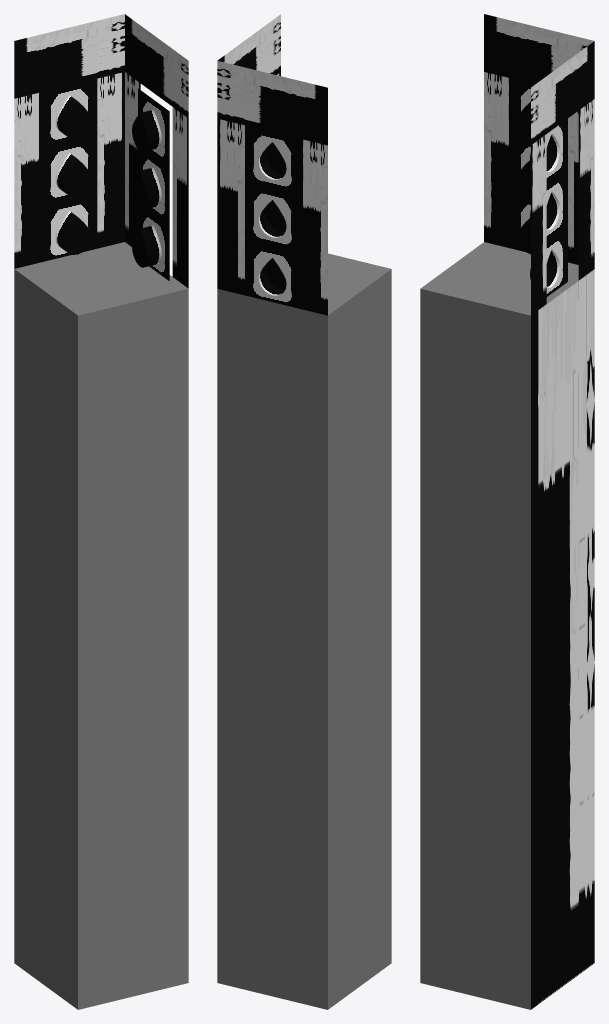
The model's file is Phase 3 Tower - Bottom Half.fbx.
The picture shows the model from 3 angles, left to right: view 1: azimuth 30°, elevation 25°; view 2: azimuth 150°, elevation 25°; view 3: azimuth 330°, elevation 25°; orthographic projection.
Parts seen in each view (by area): view 1: Whitebox_cube, Windows_Inset_Tear (6), Windows_Inset_Tear (10), Windows_Inset_Tear (11), Windows_Inset_Tear (7), Windows_Inset_Tear (1), Windows_Inset_Tear, Windows_Inset_Tear (2), Windows_Inset_Tear (9), Windows_Inset_Tear (3), Windows_Inset_Tear (4), Windows_Inset_Tear (5) (+1 smaller); view 2: Whitebox_cube, Windows_Inset_Tear (6), Windows_Inset_Tear (11), Windows_Inset_Tear (10), Windows_Inset_Tear (1), Windows_Inset_Tear, Windows_Inset_Tear (2), Windows_Inset_Tear (7); view 3: Whitebox_cube, Windows_Inset_Tear (11), Windows_Inset_Tear (6), Windows_Inset_Tear (7), Windows_Inset_Tear (8), Windows_Inset_Tear (9), Windows_Inset_Tear (10), Windows_Inset_Tear (4), Windows_Inset_Tear (5), Windows_Inset_Tear, Windows_Inset_Tear (1), Windows_Inset_Tear (3) (+1 smaller).
Boxes of the visible parts, left/top/right/bottom form: Whitebox_cube: left=14, top=242, right=188, bottom=1009; Windows_Inset_Tear (6): left=14, top=14, right=124, bottom=98; Windows_Inset_Tear (10): left=97, top=72, right=124, bottom=248; Windows_Inset_Tear (11): left=14, top=92, right=41, bottom=268; Windows_Inset_Tear (7): left=125, top=14, right=188, bottom=118; Windows_Inset_Tear (1): left=42, top=136, right=97, bottom=207; Windows_Inset_Tear: left=42, top=78, right=97, bottom=149; Windows_Inset_Tear (2): left=42, top=194, right=97, bottom=261; Windows_Inset_Tear (9): left=172, top=107, right=188, bottom=288; Windows_Inset_Tear (3): left=132, top=88, right=169, bottom=168; Windows_Inset_Tear (4): left=132, top=149, right=169, bottom=226; Windows_Inset_Tear (5): left=132, top=207, right=169, bottom=280; Whitebox_cube: left=217, top=253, right=391, bottom=1009; Windows_Inset_Tear (6): left=217, top=61, right=327, bottom=145; Windows_Inset_Tear (11): left=300, top=139, right=327, bottom=315; Windows_Inset_Tear (10): left=217, top=118, right=244, bottom=295; Windows_Inset_Tear (1): left=245, top=183, right=300, bottom=254; Windows_Inset_Tear: left=245, top=125, right=300, bottom=196; Windows_Inset_Tear (2): left=245, top=241, right=300, bottom=308; Windows_Inset_Tear (7): left=217, top=14, right=280, bottom=74; Whitebox_cube: left=420, top=242, right=594, bottom=1009; Windows_Inset_Tear (11): left=484, top=72, right=511, bottom=248; Windows_Inset_Tear (6): left=484, top=14, right=593, bottom=84; Windows_Inset_Tear (7): left=531, top=41, right=594, bottom=144; Windows_Inset_Tear (8): left=578, top=99, right=594, bottom=280; Windows_Inset_Tear (9): left=531, top=134, right=546, bottom=315; Windows_Inset_Tear (10): left=568, top=111, right=578, bottom=264; Windows_Inset_Tear (4): left=530, top=170, right=567, bottom=242; Windows_Inset_Tear (5): left=530, top=227, right=567, bottom=296; Windows_Inset_Tear: left=511, top=78, right=534, bottom=140; Windows_Inset_Tear (1): left=511, top=136, right=530, bottom=198; Windows_Inset_Tear (3): left=530, top=118, right=567, bottom=184.
Size of the model in its own units: 2 by 15.94 by 2.
